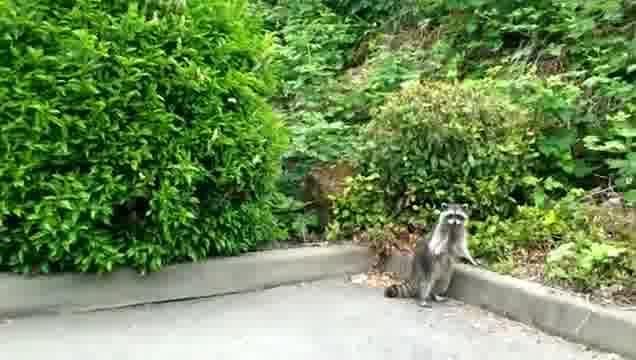raccoon: (386, 201, 480, 309)
